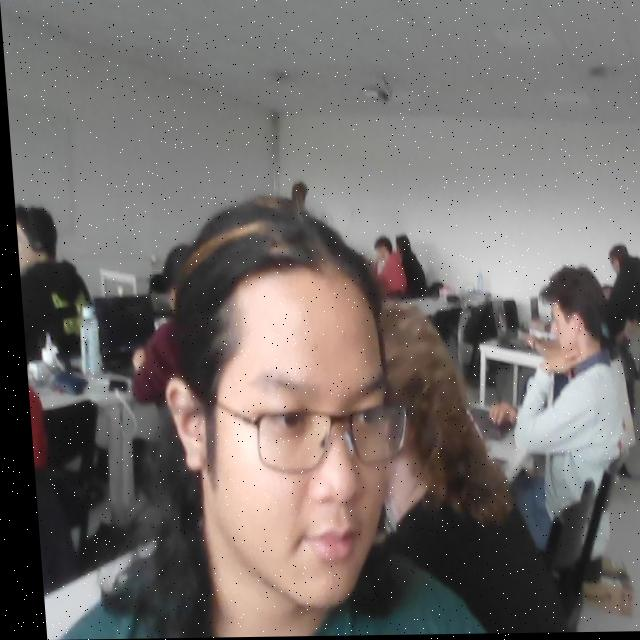opened_eye: (267, 399, 313, 444), (353, 400, 388, 434)
